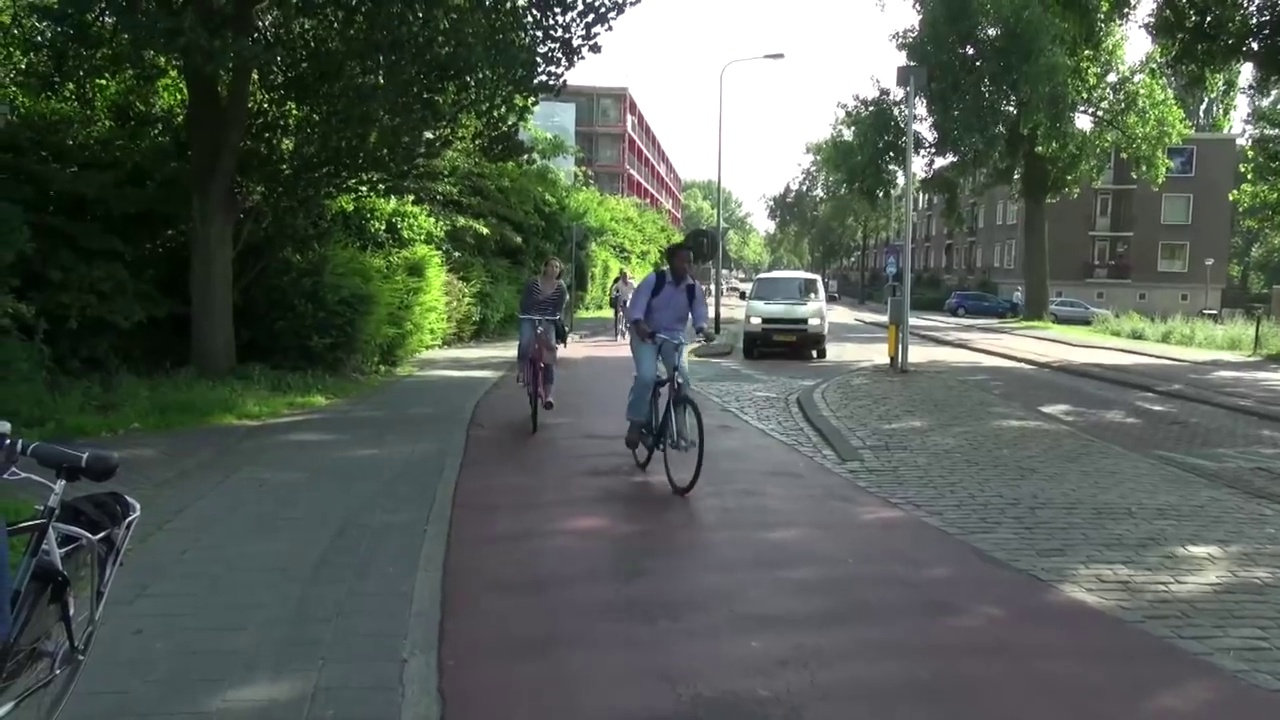cyclist_front: (618, 244, 712, 502), (512, 250, 573, 433), (609, 269, 632, 338)
